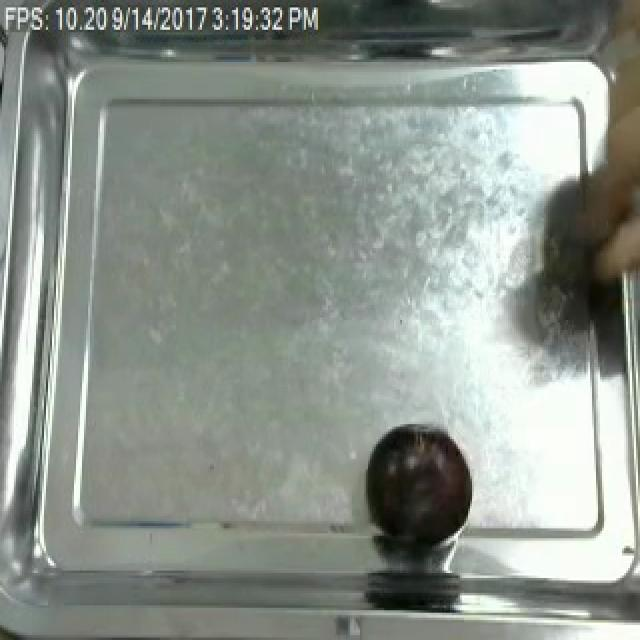Fruit: (362, 419, 474, 546)
